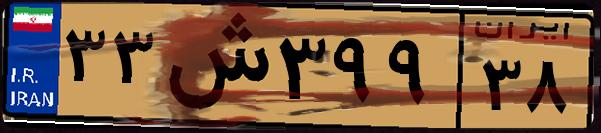3: (270, 28, 330, 110), (57, 26, 110, 100), (475, 38, 525, 113), (110, 28, 158, 98)
8: (525, 38, 570, 115)
9: (385, 28, 445, 110), (330, 28, 385, 110)
ش: (158, 12, 270, 120)
